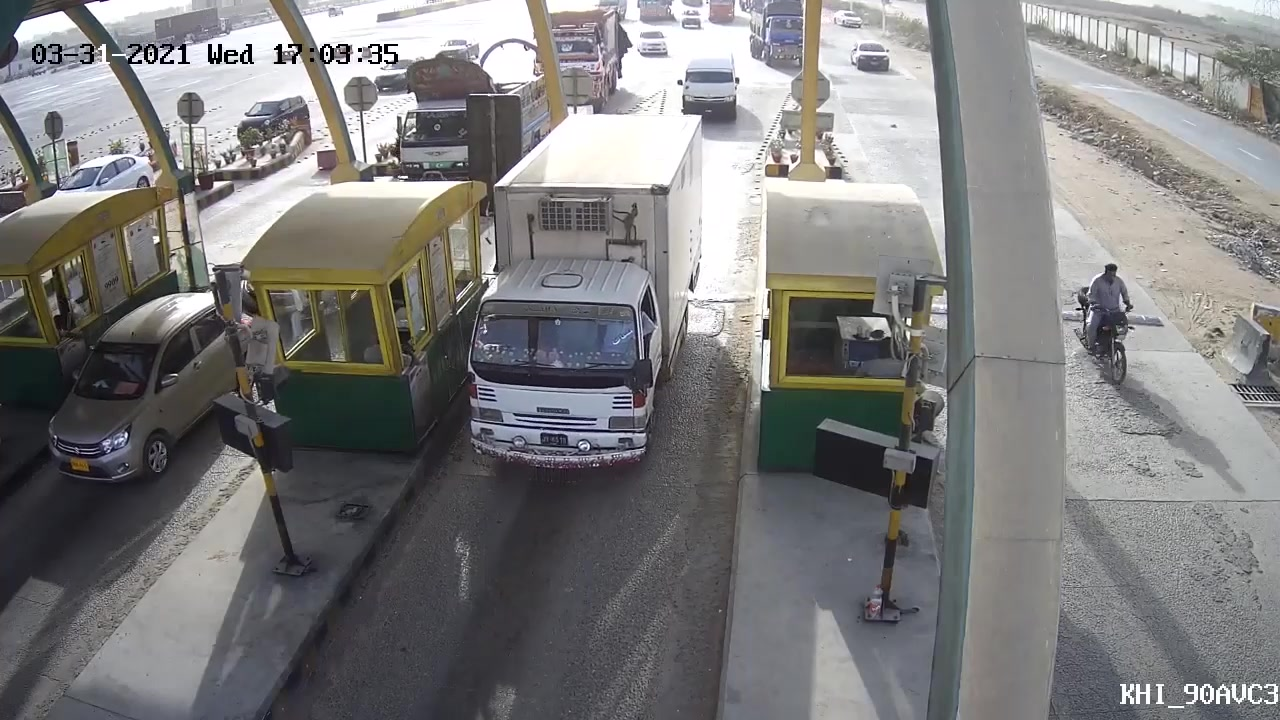F5: (443, 108, 708, 505)
